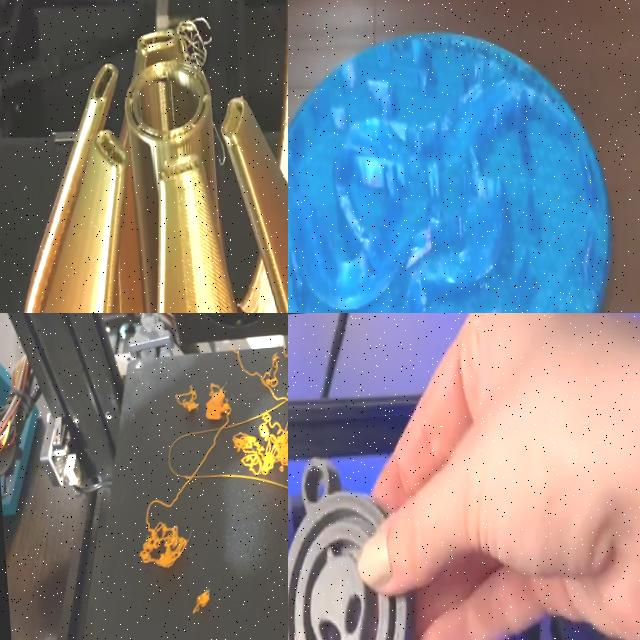spaghetti: (231, 333, 288, 567), (164, 3, 213, 70), (136, 526, 201, 573), (166, 378, 204, 418), (207, 376, 234, 425), (188, 588, 216, 617), (212, 128, 228, 172)
